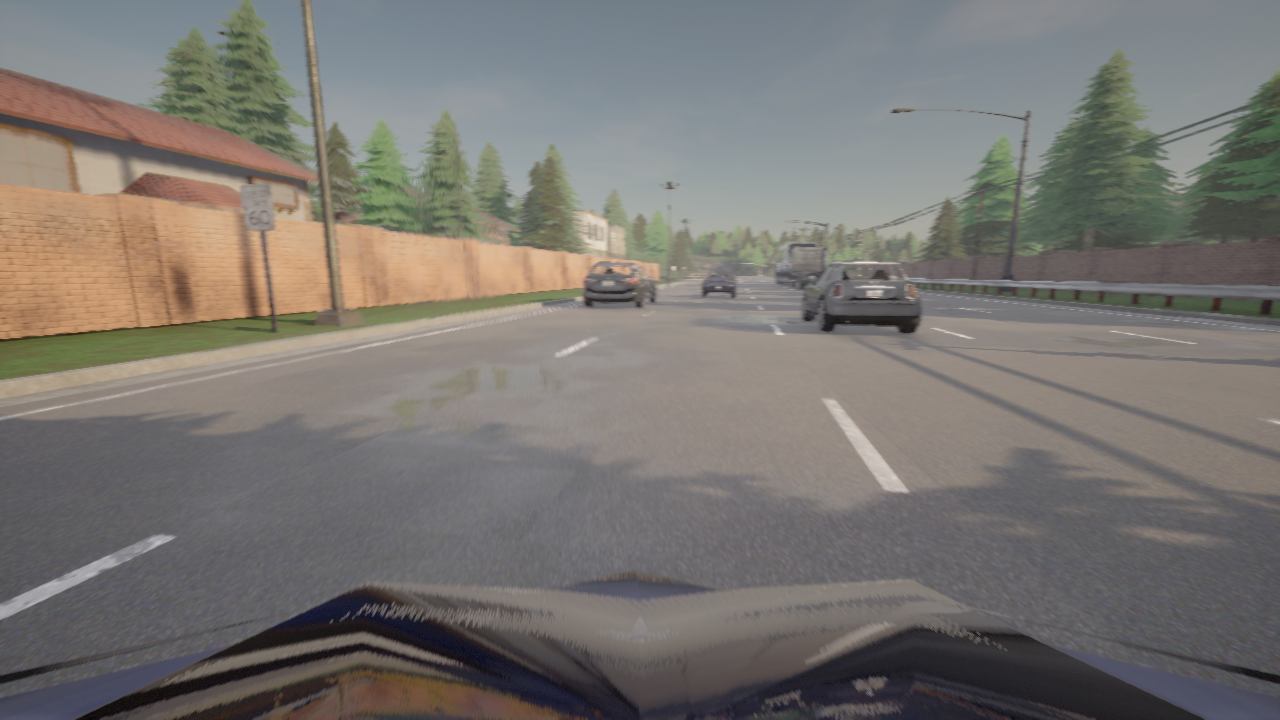cyclist: (0, 569, 1279, 719), (801, 261, 921, 333), (583, 261, 656, 307), (772, 241, 817, 285), (787, 246, 827, 289), (701, 269, 736, 297)
